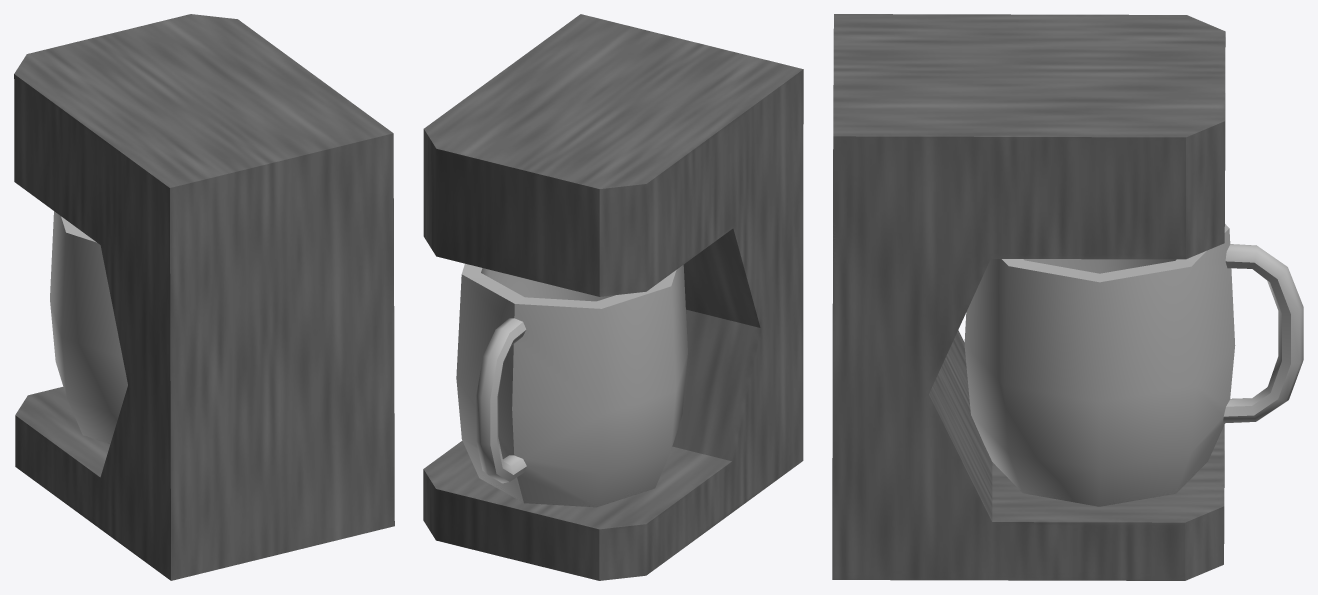
Rendered from frl_apartment_small_appliance_02.glb.
The picture shows the model from 3 angles, left to right: view 1: azimuth 30°, elevation 25°; view 2: azimuth 150°, elevation 25°; view 3: azimuth 270°, elevation 25°; orthographic projection. The views are drawn at different scales.
Parts seen in each view (by area): view 1: frl_apartment_small_appliance_02; view 2: frl_apartment_small_appliance_02; view 3: frl_apartment_small_appliance_02.
Boxes of the visible parts, bbox=[...] form: frl_apartment_small_appliance_02: bbox=[14, 14, 394, 580]; frl_apartment_small_appliance_02: bbox=[423, 14, 803, 580]; frl_apartment_small_appliance_02: bbox=[832, 14, 1303, 580].
Size of the model in its own units: 0.1781 by 0.298 by 0.2866.
Materials: 1 (1 with a texture image).
